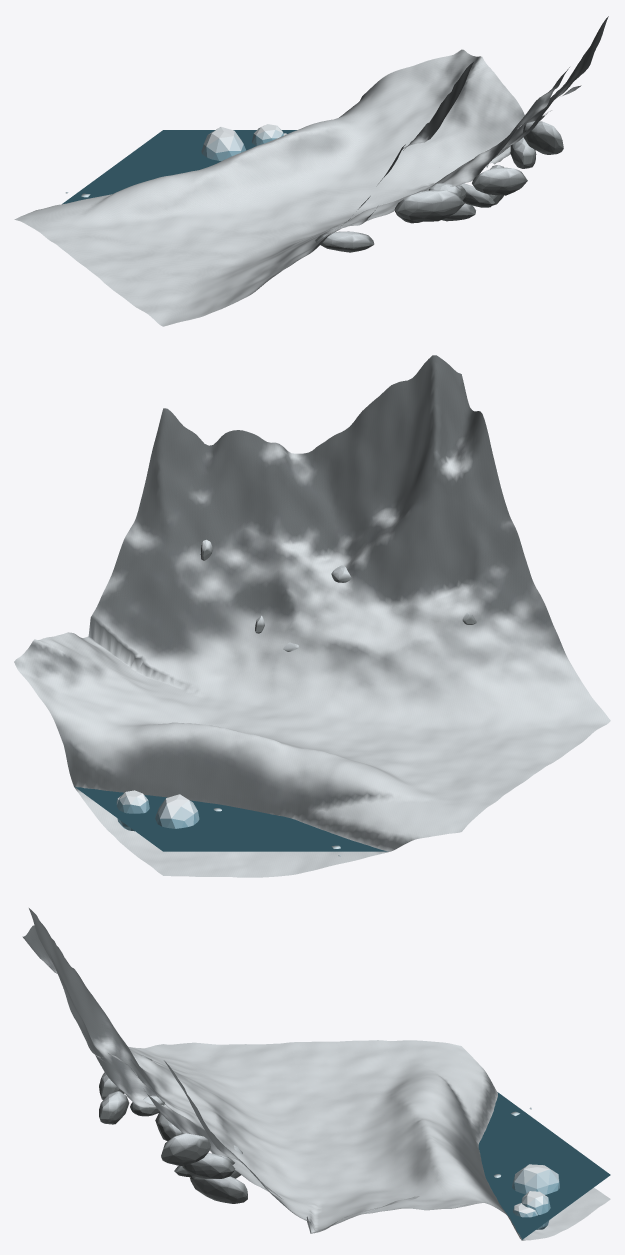
The picture shows the model from 3 angles, top to bottom: view 1: azimuth 30°, elevation 25°; view 2: azimuth 150°, elevation 25°; view 3: azimuth 270°, elevation 25°; orthographic projection.
Parts seen in each view (by area): view 1: terrain_v10, supported_bedrock, sea_level_0, WG_13_berg_00, WG_13_berg_02; view 2: terrain_v10, sea_level_0, WG_13_berg_00, supported_bedrock, WG_13_berg_02; view 3: terrain_v10, sea_level_0, supported_bedrock, WG_13_berg_00, WG_13_berg_02.
Boxes of the visible parts, x1=… form: terrain_v10: x1=14, y1=16, x2=608, y2=326; supported_bedrock: x1=315, y1=121, x2=563, y2=252; sea_level_0: x1=62, y1=130, x2=296, y2=204; WG_13_berg_00: x1=201, y1=127, x2=246, y2=160; WG_13_berg_02: x1=251, y1=124, x2=283, y2=145; terrain_v10: x1=14, y1=355, x2=610, y2=877; sea_level_0: x1=74, y1=786, x2=388, y2=851; WG_13_berg_00: x1=155, y1=794, x2=199, y2=828; supported_bedrock: x1=200, y1=539, x2=476, y2=651; WG_13_berg_02: x1=116, y1=790, x2=149, y2=831; terrain_v10: x1=22, y1=908, x2=610, y2=1240; sea_level_0: x1=478, y1=1092, x2=610, y2=1239; supported_bedrock: x1=99, y1=1055, x2=247, y2=1203; WG_13_berg_00: x1=512, y1=1164, x2=559, y2=1194; WG_13_berg_02: x1=521, y1=1191, x2=550, y2=1229.
Bounding box in the file's own units: 4330 × 2893 × 5000.
9 materials, 2 textured.
